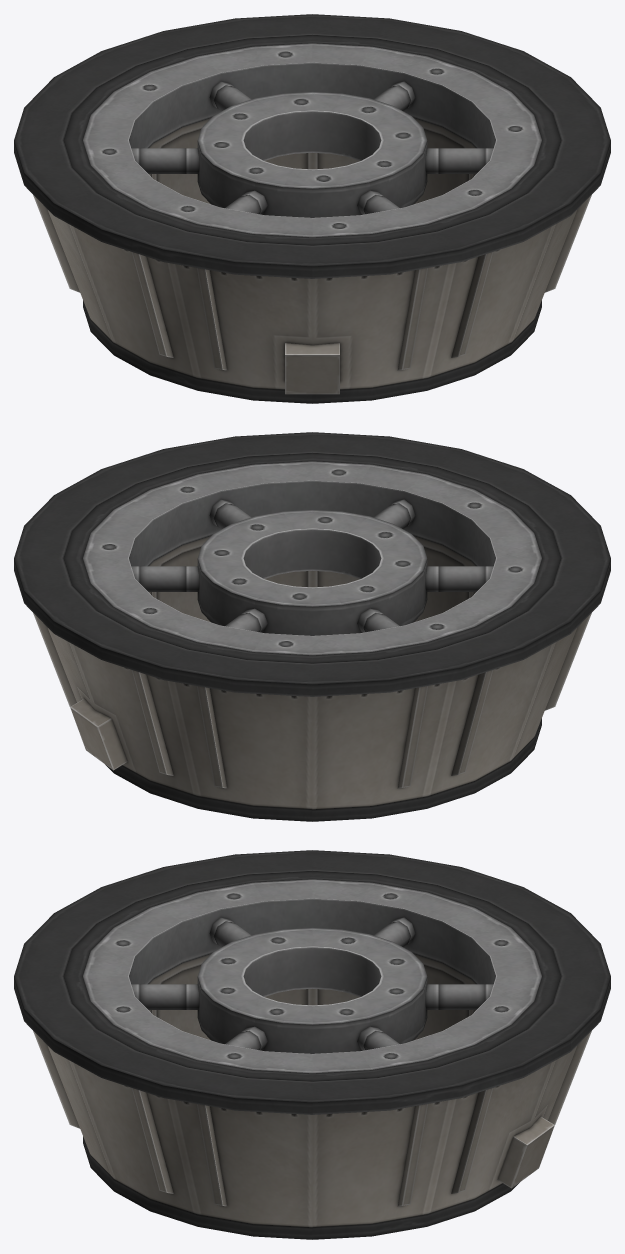
Rendered from fairing_s1.obj.
3 views of the same model, one above another, from view 1: azimuth 30°, elevation 25°; view 2: azimuth 150°, elevation 25°; view 3: azimuth 270°, elevation 25° (orthographic).
Parts seen in each view (by area): view 1: 1; view 2: 1; view 3: 1.
Part boxes in pixels (x1,y1,x2,y2): 1: (14,14,610,403); 1: (14,432,610,821); 1: (14,850,610,1239).
Size of the model in its own units: 1.62 by 0.5 by 1.62.
Materials: 1 (1 with a texture image).
